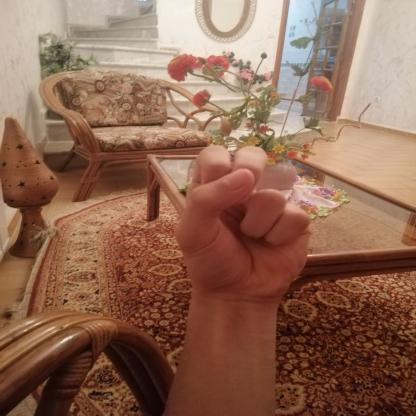QAAF: (164, 130, 330, 314)
